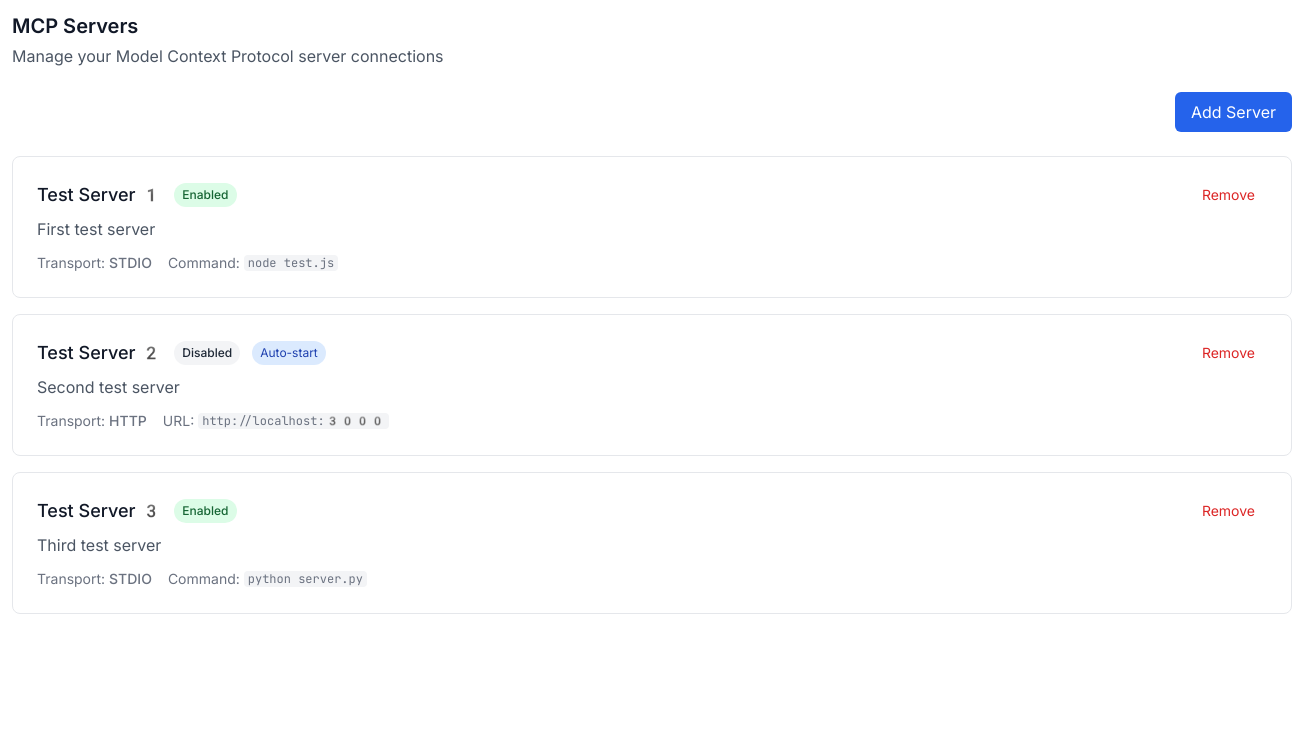
Test case: McpIntegration › Server Management Actions › handles server removal errors
Check: the heading "Test Server 1" is shown, box x1=37 y1=181 x2=162 y2=209
Click the button "Remove" in the row of "Test Server 1".
click(1228, 195)  # box x1=1190 y1=181 x2=1267 y2=209
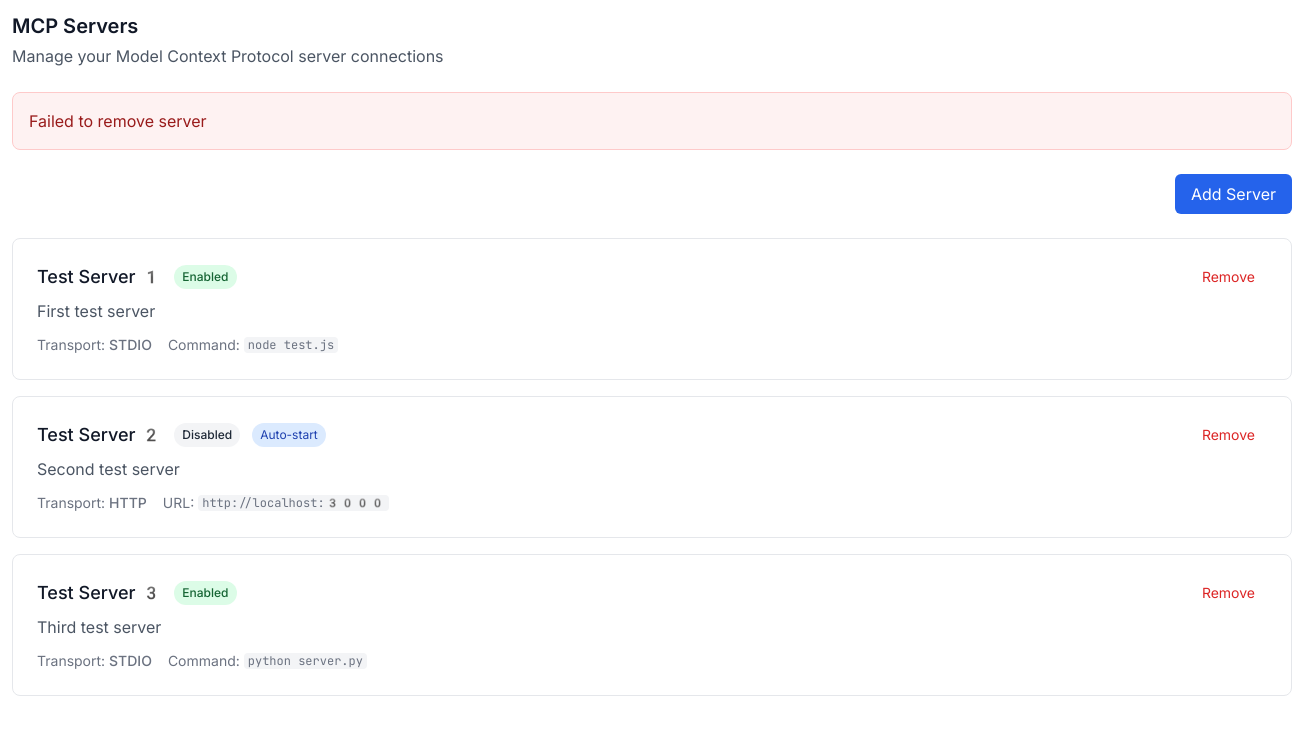
Check: the text "Failed to remove server" is shown, box x1=29 y1=111 x2=207 y2=131
